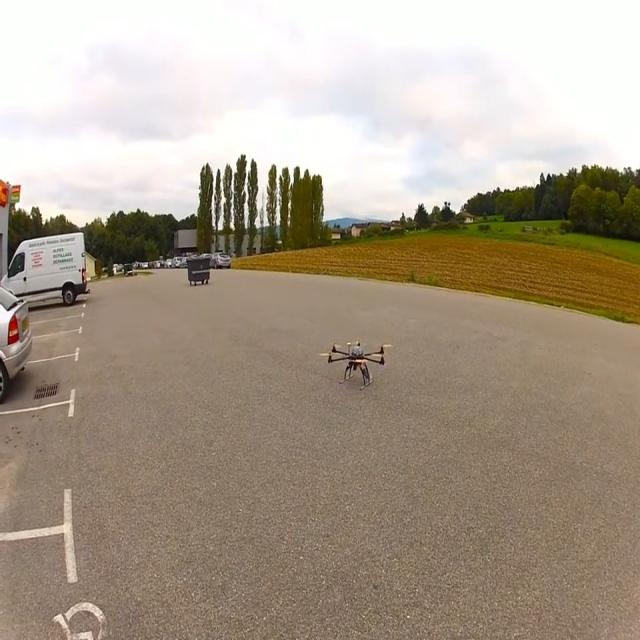drone: (318, 338, 392, 389)
